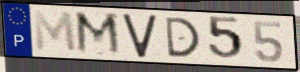5: (206, 15, 246, 64), (252, 20, 285, 64)
D: (163, 16, 202, 59)
M: (73, 10, 124, 59), (31, 9, 79, 55)
V: (120, 13, 159, 59)
